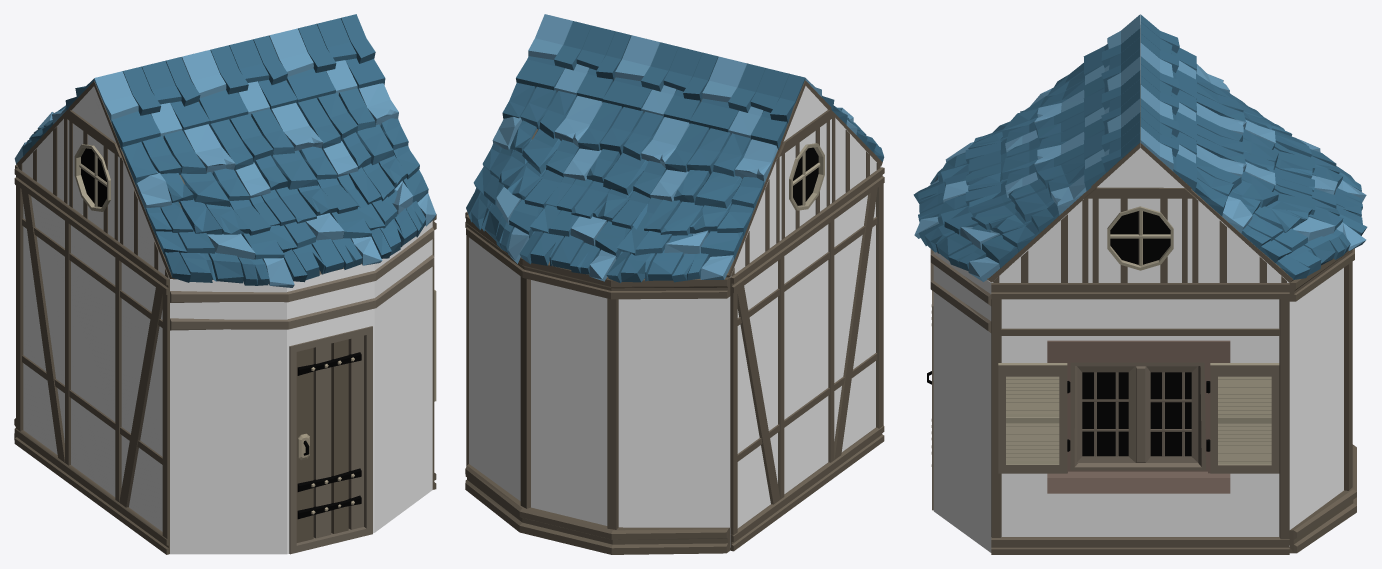
Rendered from house_15_full.fbx.
The picture shows the model from 3 angles, left to right: view 1: azimuth 30°, elevation 25°; view 2: azimuth 150°, elevation 25°; view 3: azimuth 270°, elevation 25°; orthographic projection.
Visible parts, largest first — view 1: DOOR_06_Balkon_2, ROOF_base_round_2, WALL_02_2, ROOF_base_small_4, ROOF_base_small_6, ROOF_base_small_5, ROOF_Window_round_3, ROOF_trinagle_right_wood_3, ROOF_trinagle_left_wood_3, ROOF_triangles_up_wood_4, WINDOW_06_2, ROOF_base_round_3; view 2: WINDOW_01_Balkon_2, ROOF_base_round_3, WALL_02_2, ROOF_base_small_9, ROOF_base_small_8, ROOF_base_small_7, ROOF_Window_round_3, ROOF_trinagle_right_wood_3, ROOF_trinagle_left_wood_3, ROOF_triangles_up_wood_4, ROOF_base_round_2, WINDOW_06_2; view 3: WINDOW_06_2, ROOF_base_round_2, ROOF_base_round_3, WINDOW_01_Balkon_2, DOOR_06_Balkon_2, ROOF_Window_round_2, ROOF_trinagle_left_wood_2, ROOF_trinagle_right_wood_2, ROOF_base_small_8, ROOF_base_small_6, ROOF_triangles_up_wood_3, ROOF_base_small_9 (+3 smaller).
Part boxes in pixels (x1,y1,x2,y2): DOOR_06_Balkon_2: (170,221,434,554); ROOF_base_round_2: (119,83,436,287); WALL_02_2: (14,168,169,554); ROOF_base_small_4: (94,57,209,150); ROOF_base_small_6: (269,14,385,105); ROOF_base_small_5: (182,35,297,126); ROOF_Window_round_3: (68,120,119,241); ROOF_trinagle_right_wood_3: (119,157,169,278); ROOF_trinagle_left_wood_3: (18,117,68,204); ROOF_triangles_up_wood_4: (63,86,121,157); WINDOW_06_2: (432,214,436,489); ROOF_base_round_3: (14,105,68,167); WINDOW_01_Balkon_2: (465,214,730,554); ROOF_base_round_3: (466,82,780,282); WALL_02_2: (730,167,884,551); ROOF_base_small_9: (690,56,805,149); ROOF_base_small_8: (516,14,630,102); ROOF_base_small_7: (603,35,717,123); ROOF_Window_round_3: (780,120,830,239); ROOF_trinagle_right_wood_3: (830,117,880,203); ROOF_trinagle_left_wood_3: (730,156,780,277); ROOF_triangles_up_wood_4: (777,86,835,156); ROOF_base_round_2: (831,105,884,166); WINDOW_06_2: (465,212,468,481); WINDOW_06_2: (991,283,1289,554); ROOF_base_round_2: (913,63,1090,282); ROOF_base_round_3: (1190,64,1367,282); WINDOW_01_Balkon_2: (1289,248,1356,553); DOOR_06_Balkon_2: (927,249,991,552); ROOF_Window_round_2: (1090,198,1190,283); ROOF_trinagle_left_wood_2: (991,198,1090,282); ROOF_trinagle_right_wood_2: (1190,198,1289,282); ROOF_base_small_8: (1140,98,1196,191); ROOF_base_small_6: (1084,98,1140,191); ROOF_triangles_up_wood_3: (1084,145,1195,198); ROOF_base_small_9: (1140,14,1197,99).
Size of the model in its own units: 322 by 459 by 457.
